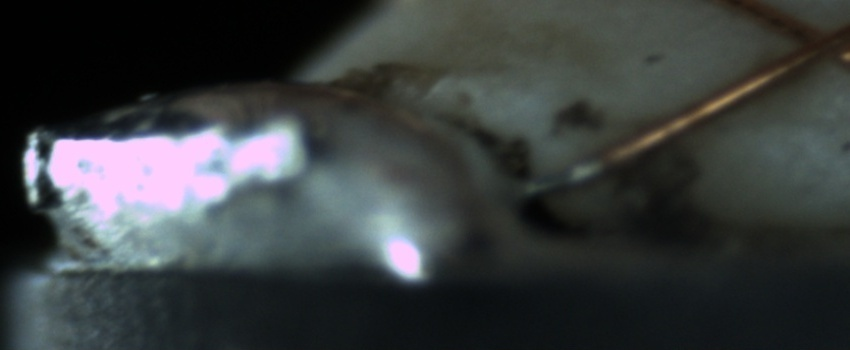CL: (764, 5, 850, 80)
TS: (522, 152, 600, 199)
TTCW: (516, 141, 626, 200)
